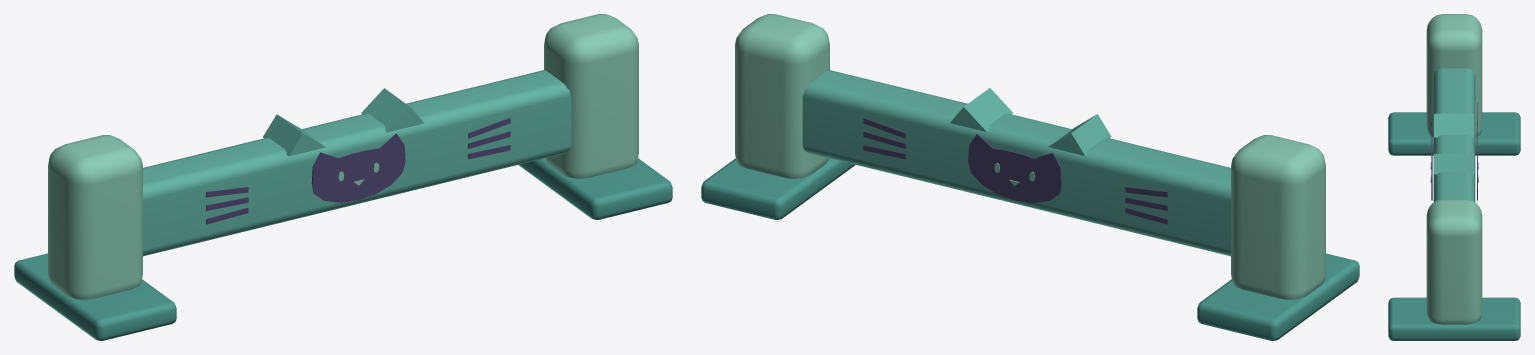
File: log_obstacle.glb
3 views of the same model, side by side, from view 1: azimuth 30°, elevation 25°; view 2: azimuth 150°, elevation 25°; view 3: azimuth 270°, elevation 25° (orthographic). The views are drawn at different scales.
Visible parts, largest first — view 1: log_obstacle_Mesh; view 2: log_obstacle_Mesh; view 3: log_obstacle_Mesh.
Boxes of the visible parts, x1,y1,x2,y2 form: log_obstacle_Mesh: (14, 14, 672, 340); log_obstacle_Mesh: (701, 14, 1359, 340); log_obstacle_Mesh: (1388, 14, 1520, 340).
Size of the model in its own units: 2.47 by 0.64 by 0.64.
